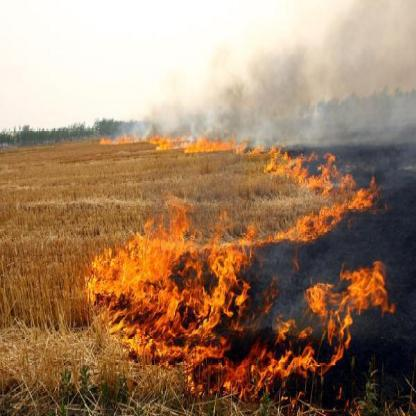fire: (70, 206, 389, 396), (262, 142, 372, 241), (92, 126, 258, 162)
